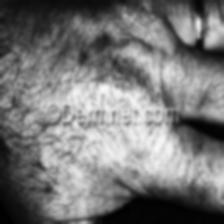Toxin: (92, 32, 112, 49), (78, 52, 98, 67), (48, 175, 59, 199)
